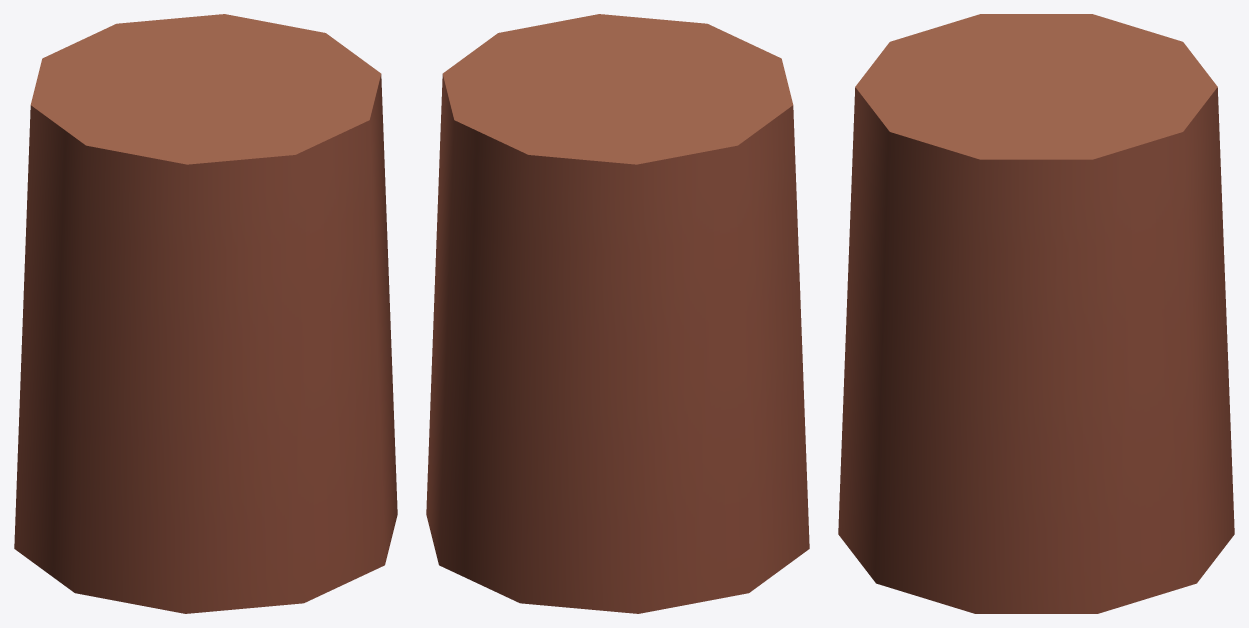
Rendered from tree_single_B_cut.gltf.
The picture shows the model from 3 angles, left to right: view 1: azimuth 30°, elevation 25°; view 2: azimuth 150°, elevation 25°; view 3: azimuth 270°, elevation 25°; orthographic projection.
Parts seen in each view (by area): view 1: tree_single_B_cut; view 2: tree_single_B_cut; view 3: tree_single_B_cut.
Boxes of the visible parts, x1,y1,x2,y2 form: tree_single_B_cut: (14, 14, 397, 613); tree_single_B_cut: (426, 14, 809, 613); tree_single_B_cut: (838, 14, 1234, 613).
Size of the model in its own units: 0.1807 by 0.2366 by 0.19.
1 material, 1 textured.
